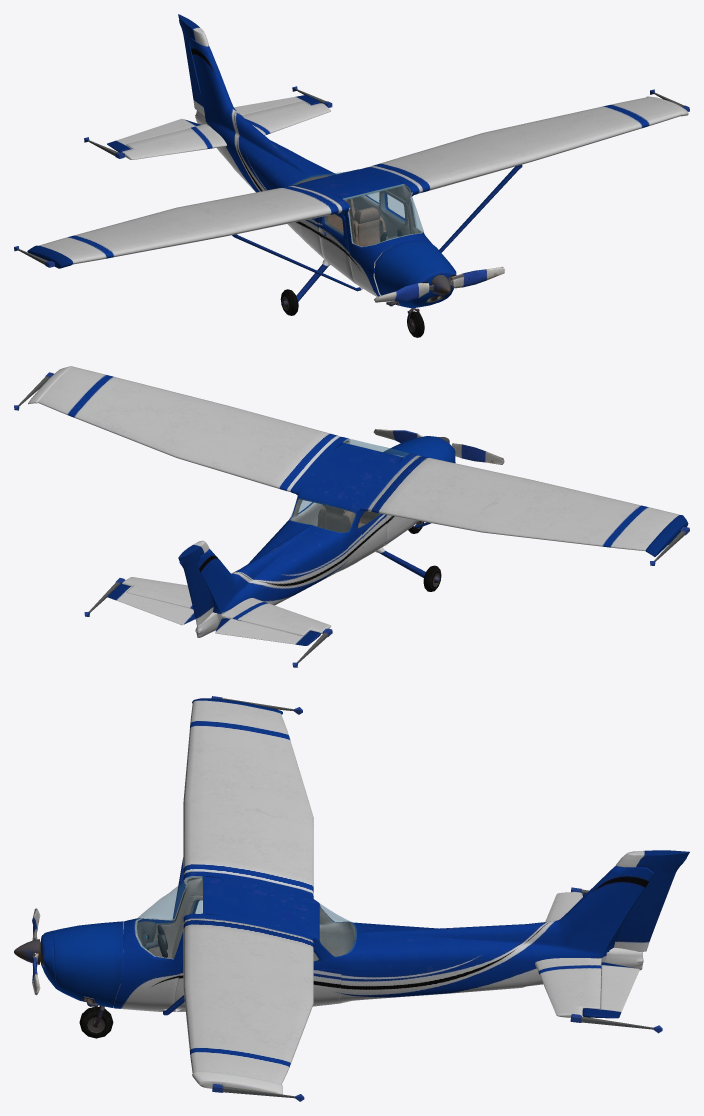
Rendered from trainer.glb.
3 views of the same model, one above another, from view 1: azimuth 30°, elevation 25°; view 2: azimuth 150°, elevation 25°; view 3: azimuth 270°, elevation 25° (orthographic). The views are drawn at different scales.
Visible parts, largest first — view 1: plane_part_3, plane_part_5, plane_part_4, plane_part_0, plane_part_1; view 2: plane_part_3, plane_part_0, plane_part_1, plane_part_5, plane_part_4; view 3: plane_part_3, plane_part_5, plane_part_1, plane_part_0, plane_part_4.
Part boxes in pixels (x1,y1,x2,y2): plane_part_3: (14,39,689,337); plane_part_5: (374,240,456,308); plane_part_4: (374,266,504,302); plane_part_0: (107,95,320,152); plane_part_1: (178,14,208,113); plane_part_3: (14,366,689,667); plane_part_0: (107,584,320,645); plane_part_1: (178,540,213,625); plane_part_5: (383,436,455,462); plane_part_4: (373,429,504,464); plane_part_3: (79,696,662,1101); plane_part_5: (41,921,122,1007); plane_part_1: (614,850,689,951); plane_part_0: (582,893,639,1018); plane_part_4: (14,908,40,995).
Size of the model in its own units: 11 by 2.45 by 8.04.
6 materials, 6 textured.
